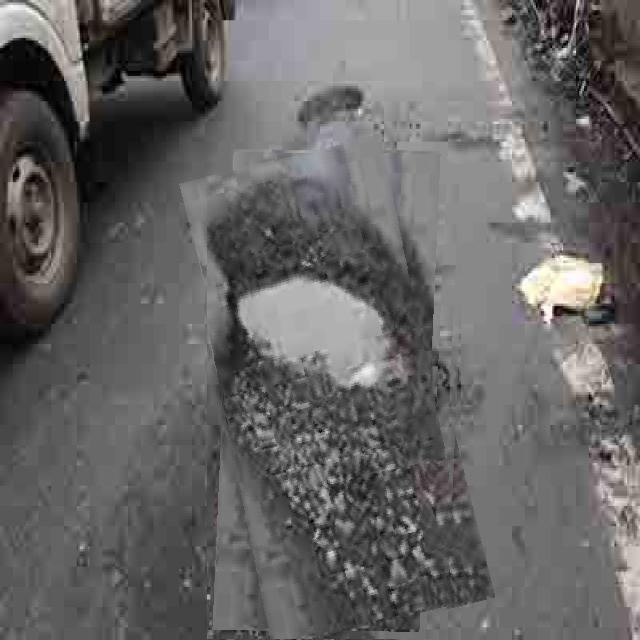Pothole: (207, 143, 468, 639)
